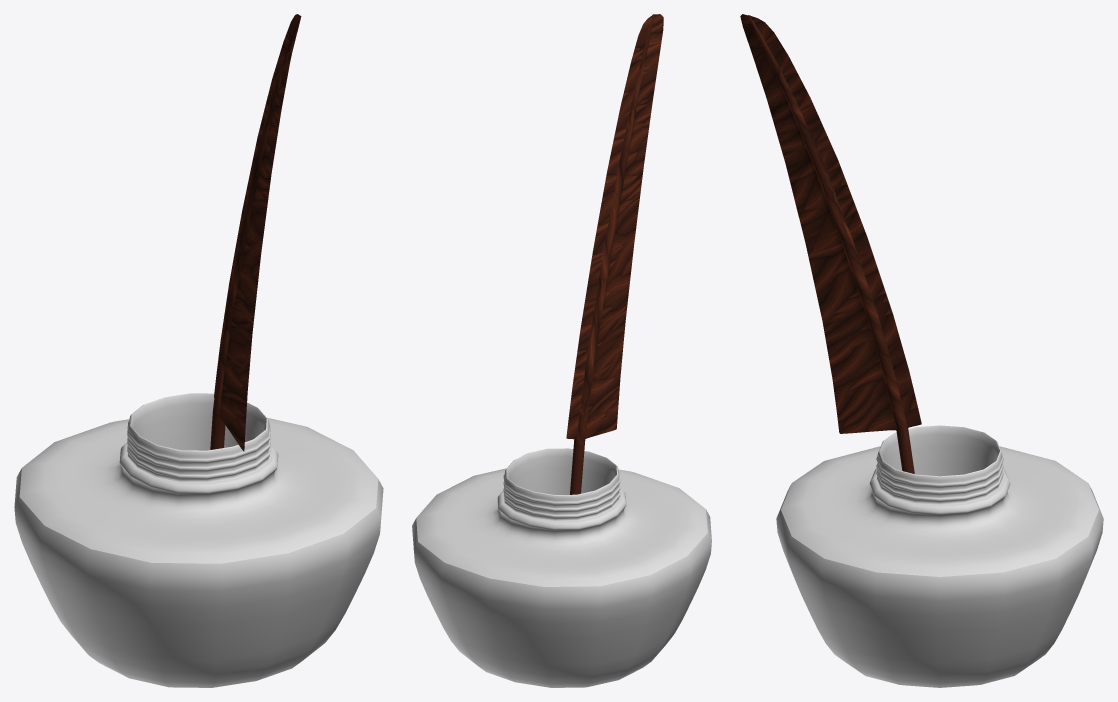
File: ink and quill.fbx
The picture shows the model from 3 angles, left to right: view 1: azimuth 30°, elevation 25°; view 2: azimuth 150°, elevation 25°; view 3: azimuth 270°, elevation 25°; orthographic projection. The views are drawn at different scales.
Visible parts, largest first — view 1: Cube.004, Feather.001, FeatherStem; view 2: Cube.004, Feather.001, FeatherStem; view 3: Cube.004, Feather.001, FeatherStem.
Part boxes in pixels (<box>): Cube.004: <box>14,393,383,687</box>; Feather.001: <box>214,14,300,451</box>; FeatherStem: <box>210,15,301,449</box>; Cube.004: <box>412,448,711,687</box>; Feather.001: <box>566,14,663,439</box>; FeatherStem: <box>570,14,653,494</box>; Cube.004: <box>776,425,1103,687</box>; Feather.001: <box>740,14,921,433</box>; FeatherStem: <box>748,15,914,473</box>.
Bounding box in the file's own units: 12.89 × 27.68 × 14.31.
